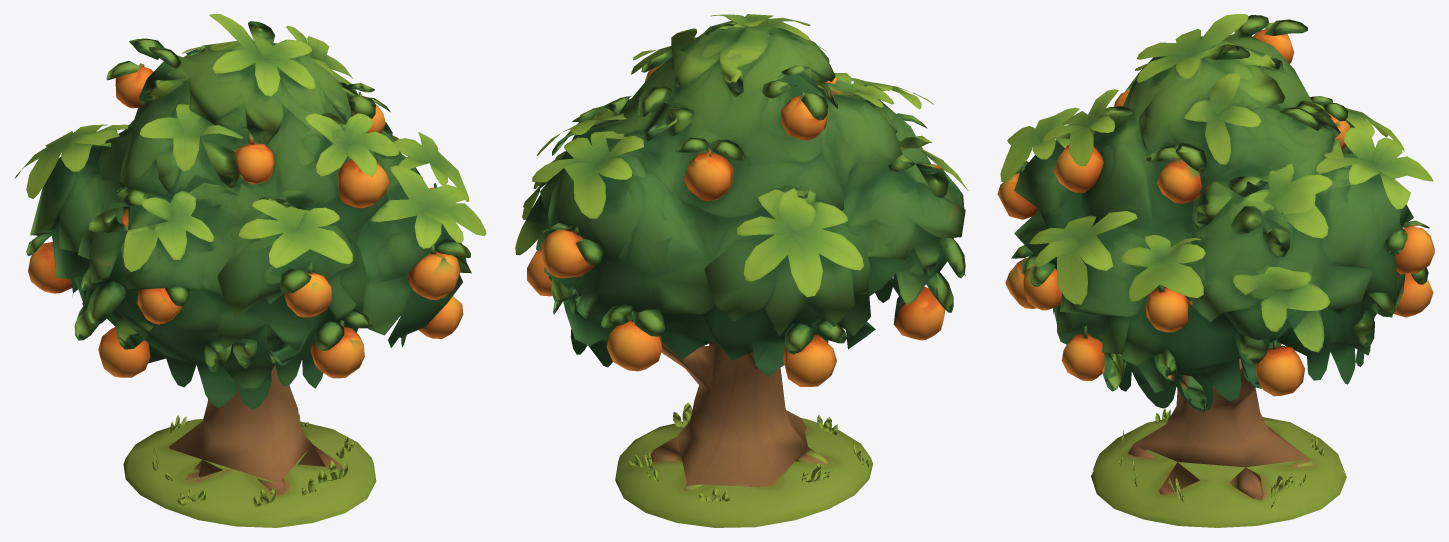
The model's file is orange-tree.glb.
3 views of the same model, side by side, from view 1: azimuth 30°, elevation 25°; view 2: azimuth 150°, elevation 25°; view 3: azimuth 270°, elevation 25° (orthographic). The views are drawn at different scales.
Parts seen in each view (by area): view 1: Orange Tree; view 2: Orange Tree; view 3: Orange Tree.
Boxes of the visible parts, bbox=[...] form: Orange Tree: bbox=[15, 14, 486, 527]; Orange Tree: bbox=[515, 14, 968, 527]; Orange Tree: bbox=[997, 14, 1434, 527].
Size of the model in its own units: 0.8574 by 0.998 by 0.877.
Materials: 1 (1 with a texture image).
